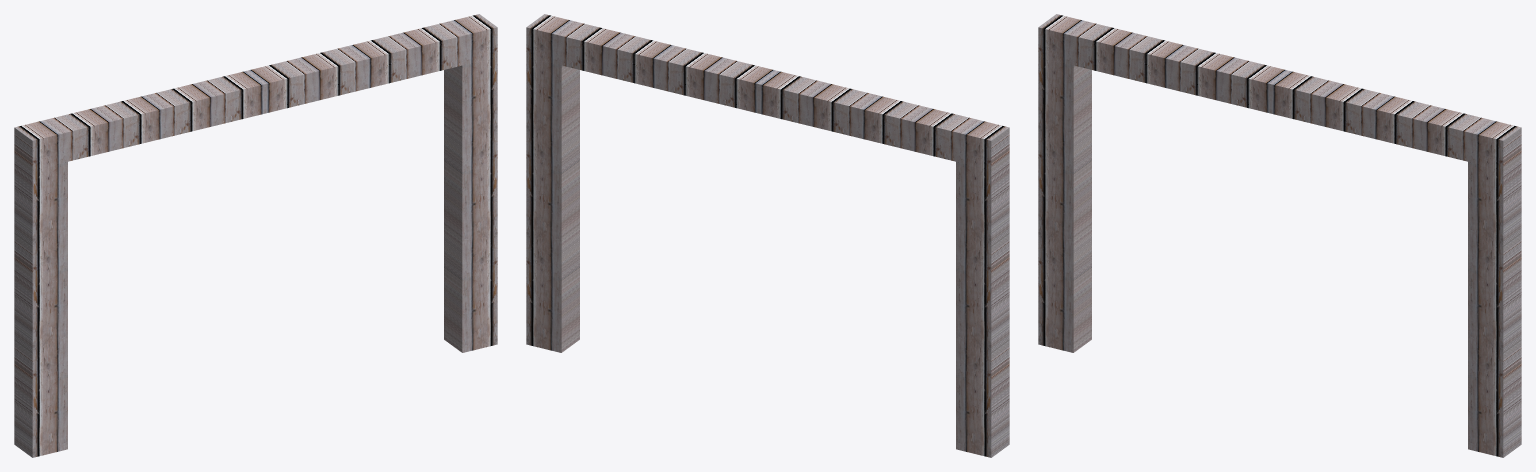
3 views of the same model, side by side, from view 1: azimuth 30°, elevation 25°; view 2: azimuth 150°, elevation 25°; view 3: azimuth 330°, elevation 25° (orthographic).
Visible parts, largest first — view 1: Plane002_woodboard_0; view 2: Plane002_woodboard_0; view 3: Plane002_woodboard_0.
Part boxes in pixels (<box>): Plane002_woodboard_0: <box>14,14,497,457</box>; Plane002_woodboard_0: <box>526,14,1009,457</box>; Plane002_woodboard_0: <box>1038,14,1521,457</box>.
Size of the model in its own units: 6.6 by 4.3 by 0.45.
1 material, 1 textured.
